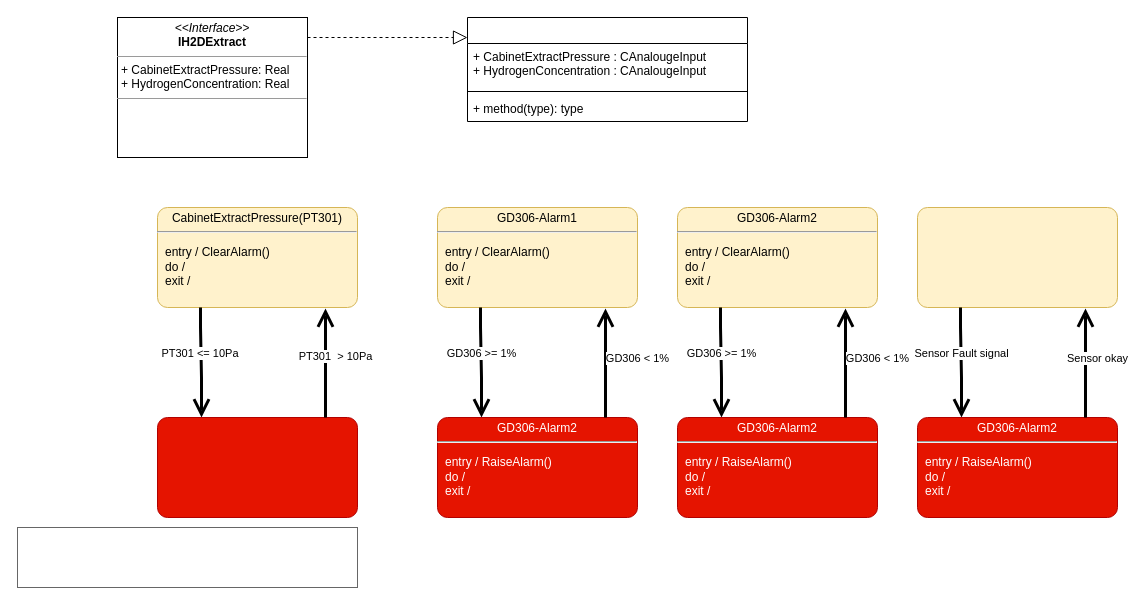
Image size: 1145x605. Some labels were removed from this diagram. Here are the shapes that lost their labels. From the top down, the box of each, then its label:
(466, 16, 748, 122): CH2DExtractController
(916, 206, 1118, 308): GD306-Sensor fault entry / ClearAlarm() do / exit /
(156, 416, 358, 518): CabinetExtractPressureLow(PT701) entry / RaiseAlarm() do / exit /
(16, 526, 358, 588): Extractor has both analogue warning and digital alarm.
